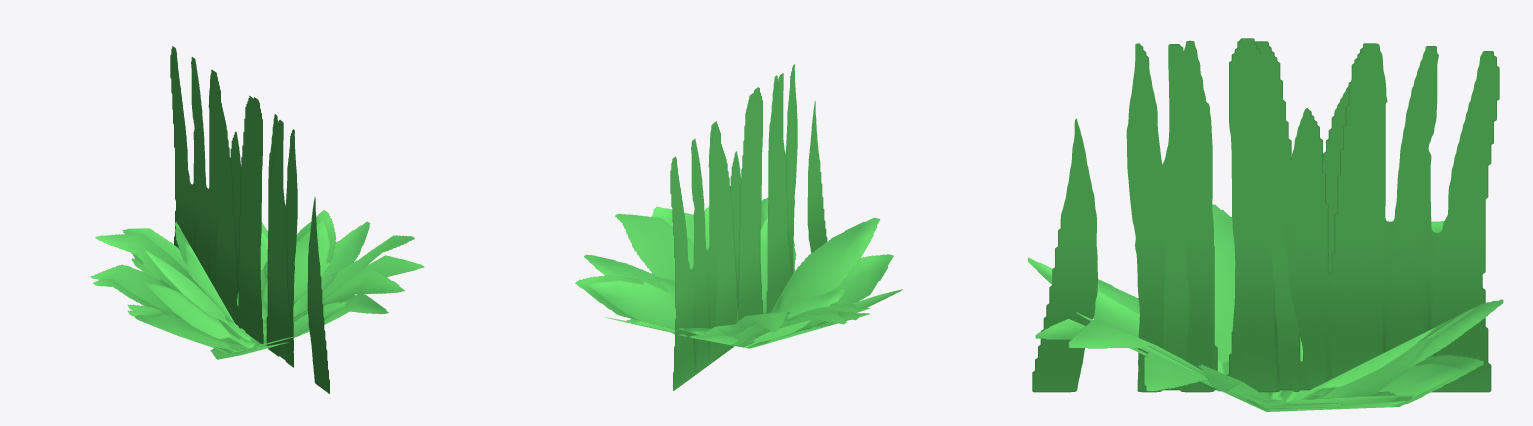
Rendered from Leave.fbx.
The picture shows the model from 3 angles, left to right: view 1: azimuth 30°, elevation 25°; view 2: azimuth 150°, elevation 25°; view 3: azimuth 270°, elevation 25°; orthographic projection. The views are drawn at different scales.
Visible parts, largest first — view 1: Leaves_A, Weed_A, Weed_B, Leaves_B; view 2: Weed_A, Leaves_A, Weed_B, Leaves_B; view 3: Weed_A, Weed_B, Leaves_A, Leaves_B.
Boxes of the visible parts, x1,y1,x2,y2 form: Leaves_A: (93, 210, 414, 353); Weed_A: (170, 46, 329, 393); Weed_B: (212, 74, 291, 363); Leaves_B: (90, 221, 424, 359); Weed_A: (670, 64, 827, 390); Leaves_A: (575, 206, 902, 334); Weed_B: (712, 73, 790, 359); Leaves_B: (584, 197, 893, 348); Weed_A: (1032, 38, 1499, 392); Weed_B: (1143, 41, 1368, 390); Leaves_A: (1028, 204, 1503, 405); Leaves_B: (1035, 279, 1483, 411).
Bounding box in the file's own units: 71.04 × 61.81 × 71.04.
